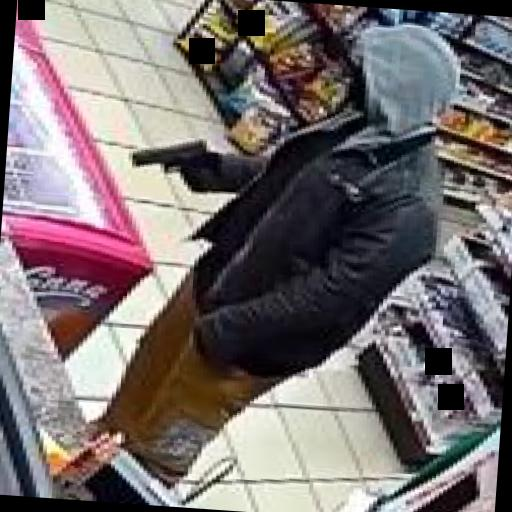Handgun: (126, 132, 212, 190)
